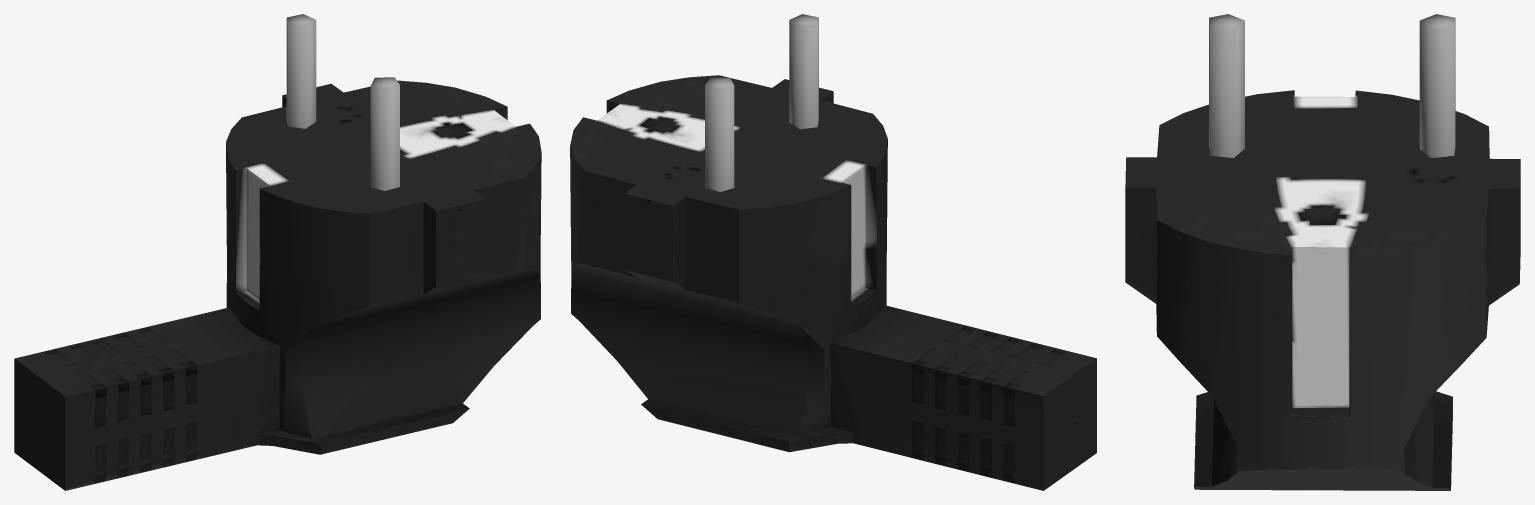
File: power_plug.fbx
3 views of the same model, side by side, from view 1: azimuth 30°, elevation 25°; view 2: azimuth 150°, elevation 25°; view 3: azimuth 270°, elevation 25° (orthographic). The views are drawn at different scales.
Parts seen in each view (by area): view 1: Object_12, Object_14; view 2: Object_12, Object_14; view 3: Object_12, Object_14.
Boxes of the visible parts, bbox=[...] form: Object_12: bbox=[14, 80, 541, 490]; Object_14: bbox=[286, 14, 399, 191]; Object_12: bbox=[570, 75, 1096, 490]; Object_14: bbox=[705, 14, 818, 191]; Object_12: bbox=[1125, 90, 1520, 490]; Object_14: bbox=[1209, 14, 1455, 157].
Bounding box in the file's own units: 67.72 × 46.65 × 38.45.
Materials: 2 (1 with a texture image).
